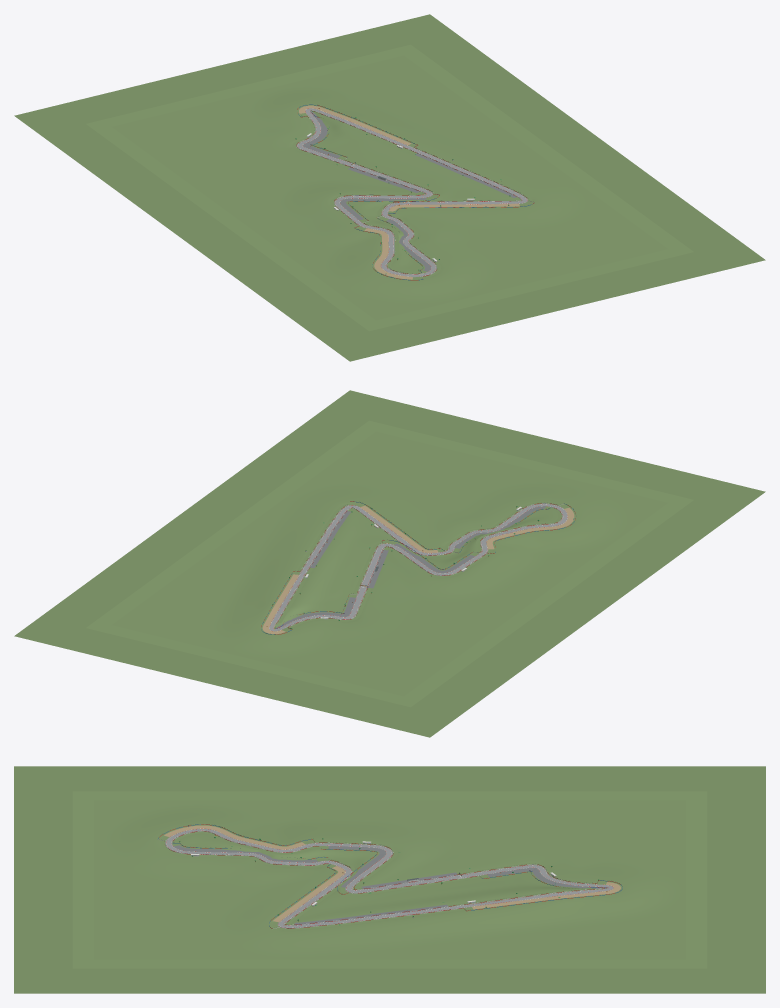
File: buddh.glb
3 renders of one model, top to bottom at view 1: azimuth 30°, elevation 25°; view 2: azimuth 150°, elevation 25°; view 3: azimuth 270°, elevation 25°, orthographic. The views are drawn at different scales.
Visible parts, largest first — view 1: terrain_infield, terrain_outskirts, terrain_verge, track_surface, track_embankment, asphalt_runoff_zones, continuous_safety_barriers, gravel_runoff_zones, track_runoff; view 2: terrain_infield, terrain_outskirts, terrain_verge, track_surface, track_embankment, asphalt_runoff_zones, gravel_runoff_zones, track_runoff, continuous_safety_barriers; view 3: terrain_infield, terrain_outskirts, terrain_verge, track_surface, track_embankment, asphalt_runoff_zones, continuous_safety_barriers, track_runoff, gravel_runoff_zones, track_curbs.
Boxes of the visible parts, left/top/right/bottom form: terrain_infield: left=112, top=55, right=667, bottom=320; terrain_outskirts: left=14, top=14, right=765, bottom=361; terrain_verge: left=86, top=44, right=693, bottom=331; track_surface: left=297, top=108, right=526, bottom=276; track_embankment: left=292, top=114, right=532, bottom=278; asphalt_runoff_zones: left=303, top=110, right=516, bottom=271; continuous_safety_barriers: left=296, top=104, right=534, bottom=280; gravel_runoff_zones: left=299, top=105, right=519, bottom=279; track_runoff: left=296, top=114, right=527, bottom=277; terrain_infield: left=112, top=431, right=667, bottom=696; terrain_outskirts: left=14, top=390, right=765, bottom=737; terrain_verge: left=86, top=420, right=693, bottom=707; track_surface: left=269, top=504, right=567, bottom=631; track_embankment: left=277, top=502, right=567, bottom=627; asphalt_runoff_zones: left=275, top=506, right=545, bottom=629; gravel_runoff_zones: left=262, top=505, right=574, bottom=633; track_runoff: left=271, top=503, right=567, bottom=625; continuous_safety_barriers: left=261, top=501, right=575, bottom=634; terrain_infield: left=94, top=800, right=685, bottom=959; terrain_outskirts: left=14, top=766, right=765, bottom=993; terrain_verge: left=72, top=791, right=707, bottom=968; track_surface: left=166, top=829, right=613, bottom=927; track_embankment: left=160, top=831, right=591, bottom=930; asphalt_runoff_zones: left=173, top=845, right=607, bottom=925; continuous_safety_barriers: left=157, top=824, right=622, bottom=928; track_runoff: left=165, top=828, right=592, bottom=928; gravel_runoff_zones: left=164, top=825, right=620, bottom=922; track_curbs: left=166, top=828, right=613, bottom=927.
Bounding box in the file's own units: 2015 × 24.1 × 2819.
